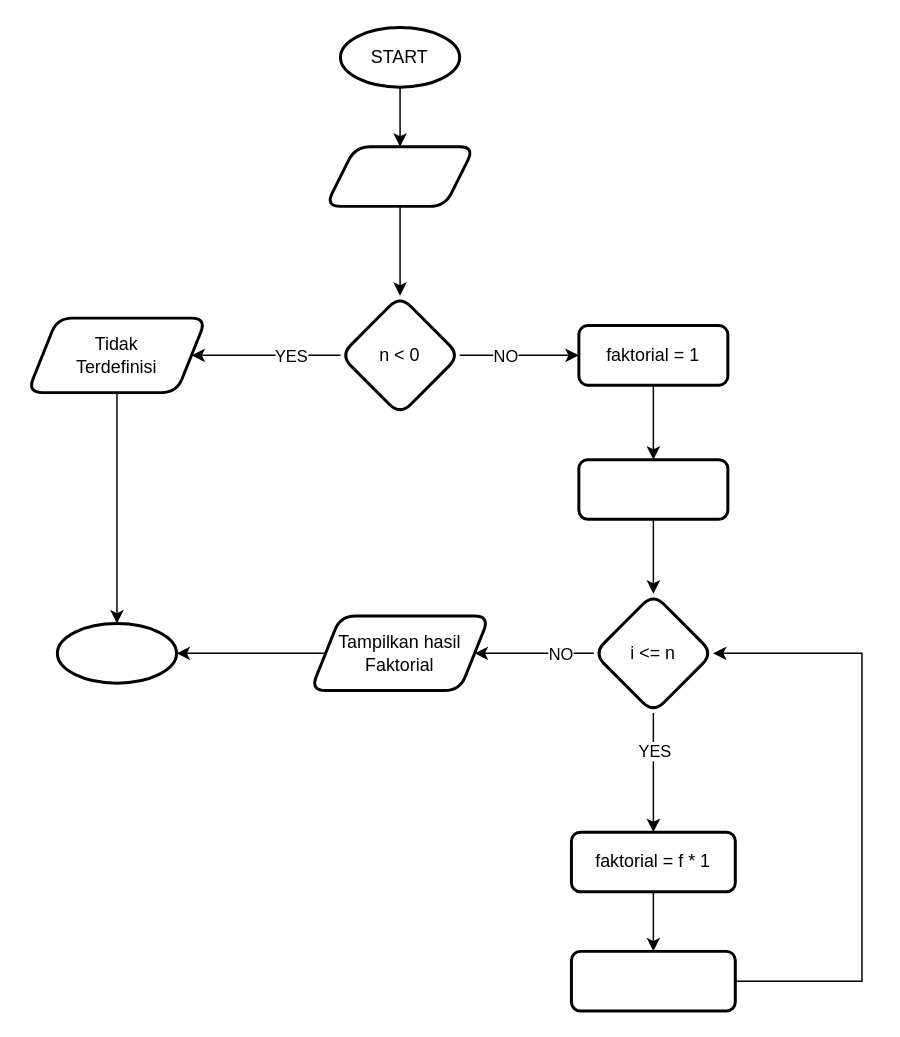
Image size: 900x1037. Some labels were removed from this diagram. Here are the shapes that lost their labels. From the top down, the centre of each, then its label:
the point at 399,176: INPUT n
the point at 653,488: i = 1
the point at 116,652: END
the point at 652,980: i = i + 1
